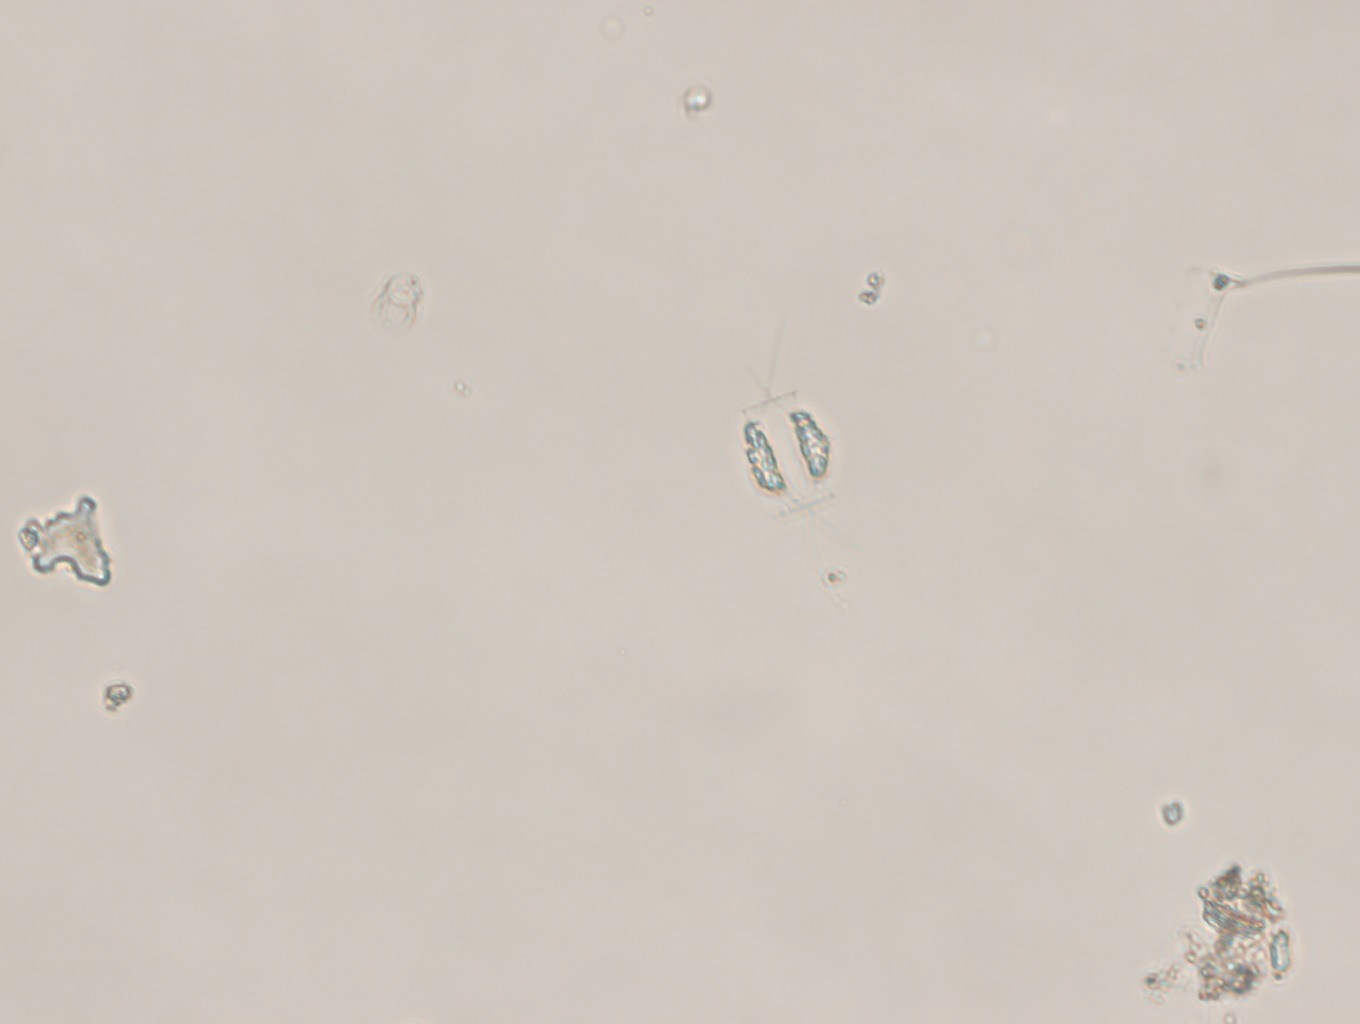chaetoceros: (695, 305, 884, 611)
